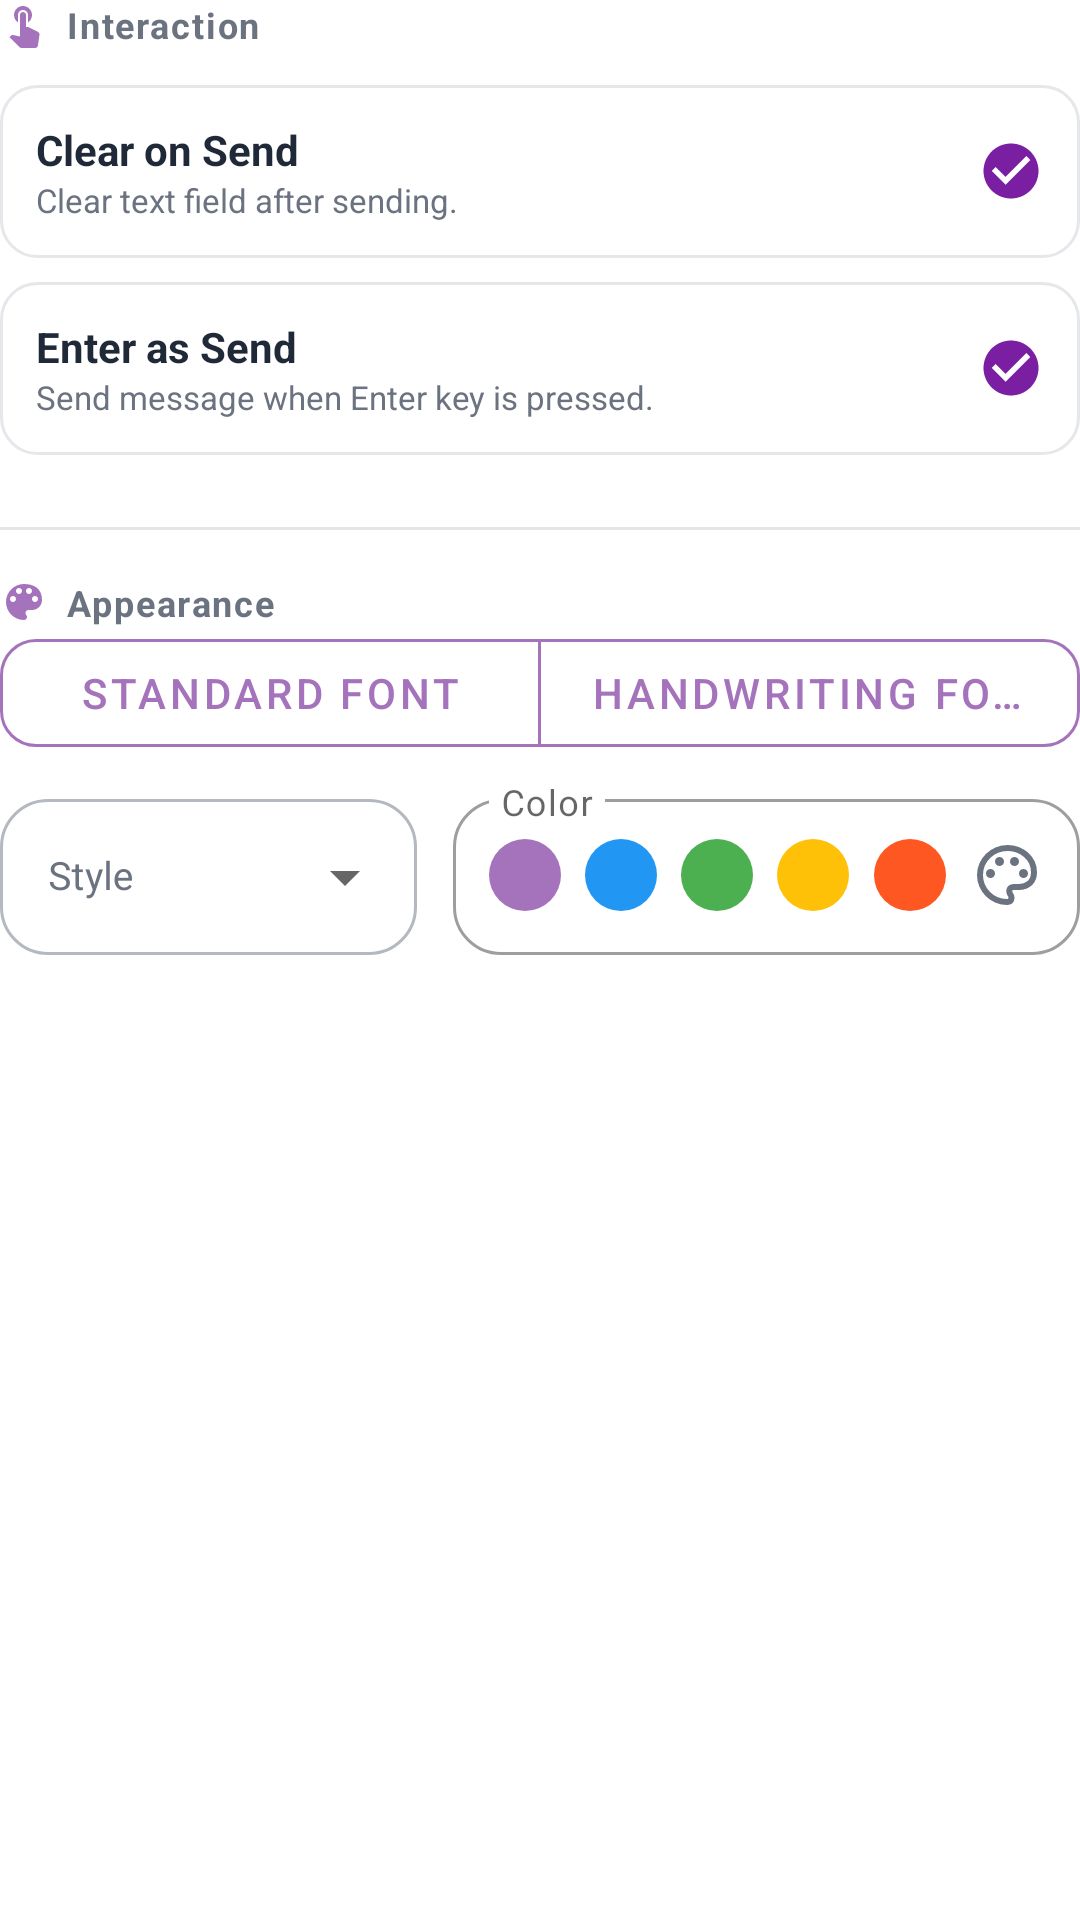

Screen size 1080w x 1920h. Icon name, then its box in pixels as (x1, y1, x2, y2):
check circle premium: (983, 143, 1039, 199), (983, 340, 1039, 396)
palette: (6, 584, 42, 620)
palette open: (977, 845, 1037, 905)
touch app: (9, 6, 40, 48)
